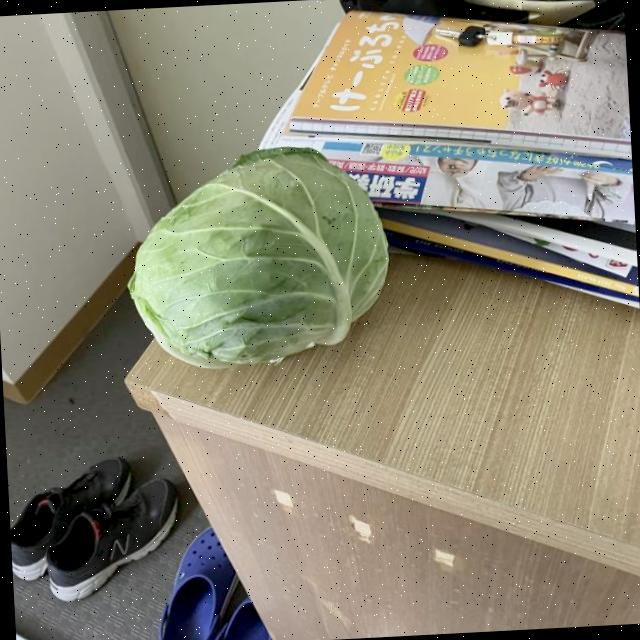cabbage: (118, 139, 400, 379)
